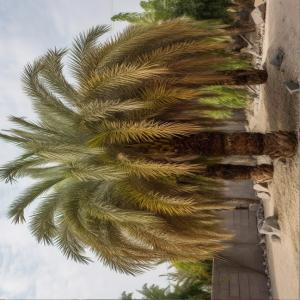palm tree: (1, 13, 297, 278)
